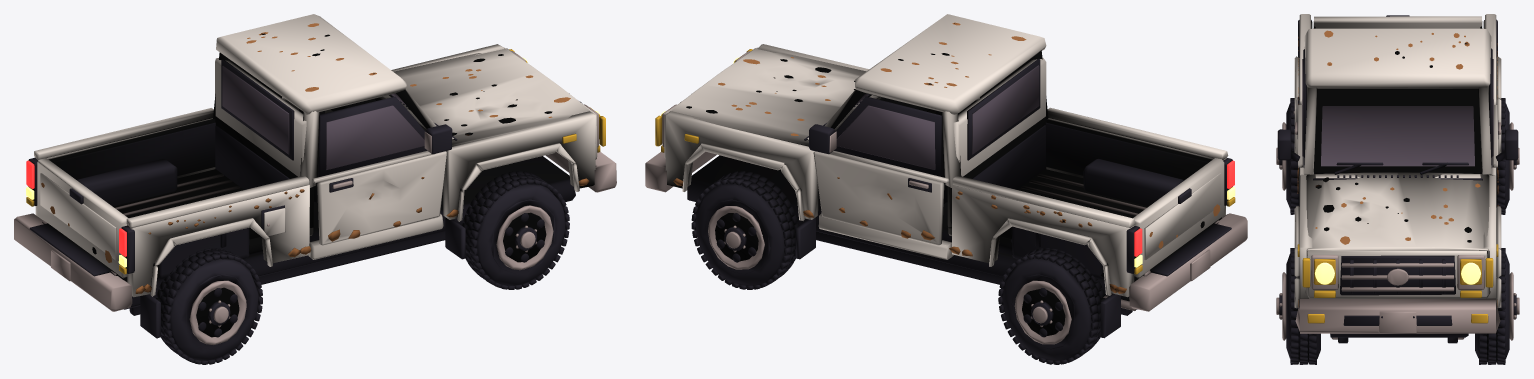
3 renders of one model, left to right at view 1: azimuth 30°, elevation 25°; view 2: azimuth 150°, elevation 25°; view 3: azimuth 270°, elevation 25°, orthographic.
Visible parts, largest first — view 1: body, object 8, wheelFR, wheelRR; view 2: body, object 8, wheelFL, wheelRL; view 3: body, object 8, wheelFL, wheelFR, wheelRL, wheelRR, lightsFront.
Boxes of the visible parts, box(x1,y1,x2,y2) form: body: box(14, 14, 616, 338); object 8: box(26, 57, 600, 278); wheelFR: box(462, 171, 569, 289); wheelRR: box(156, 248, 262, 364); body: box(645, 14, 1247, 338); object 8: box(660, 55, 1234, 278); wheelFL: box(691, 171, 799, 289); wheelRL: box(998, 248, 1105, 364); body: box(1293, 14, 1501, 343); object 8: box(1277, 15, 1518, 284); wheelFL: box(1475, 248, 1519, 364); wheelFR: box(1276, 248, 1320, 364); wheelRL: box(1496, 98, 1519, 214); wheelRR: box(1276, 98, 1299, 214); lightsFront: box(1302, 258, 1493, 297).
Size of the model in its own units: 4.4 by 1.9 by 1.8.
